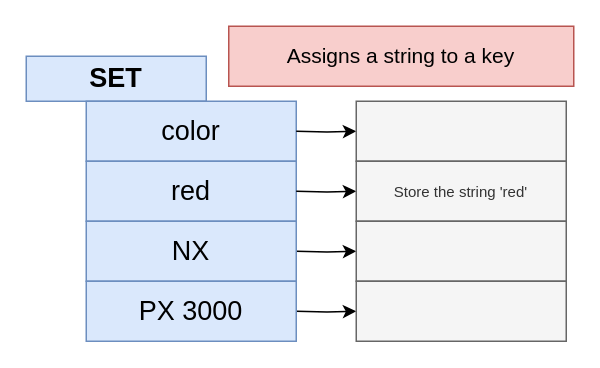
Image size: 600x368. Some labels were removed from this diagram. Here are the shapes that lost their labels. From the top down, the box of each, then its label:
(355, 100, 566, 161): Find the key 'color'
(355, 220, 566, 281): Only set this if 'color' doesn't already have a value
(355, 280, 566, 341): Unset this key after 3000 ms
